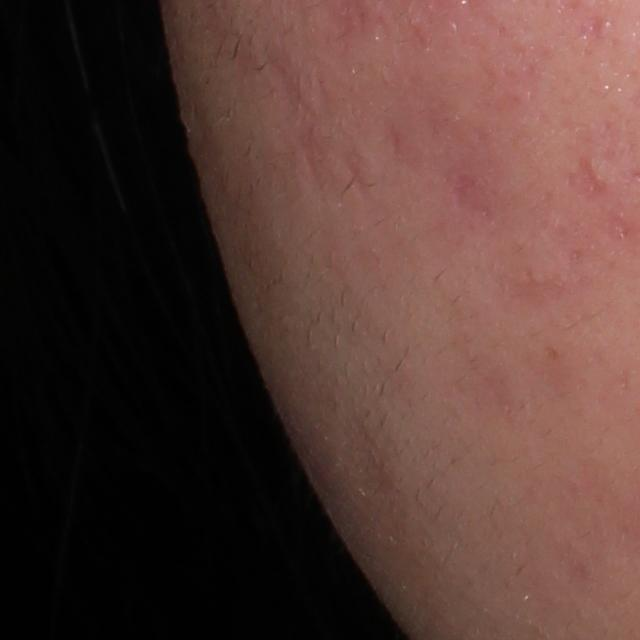atrophic_scar: (254, 44, 385, 232), (559, 150, 627, 204), (452, 169, 505, 231), (573, 5, 606, 47), (612, 211, 638, 246)
